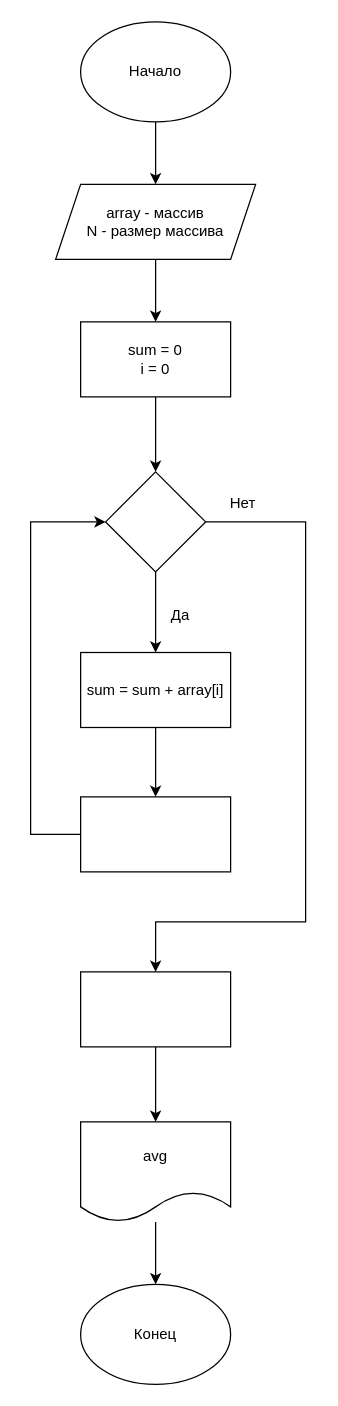
The diagram is 338 pixels wide and 1406 high, and some of its shapes have lost their labels. The centre of each missing label's shape, as x and y in pixels:
"avg = sum / N" goes at (x=155, y=1009).
"i <= N - 1" goes at (x=155, y=521).
"i = i + 1" goes at (x=155, y=834).
